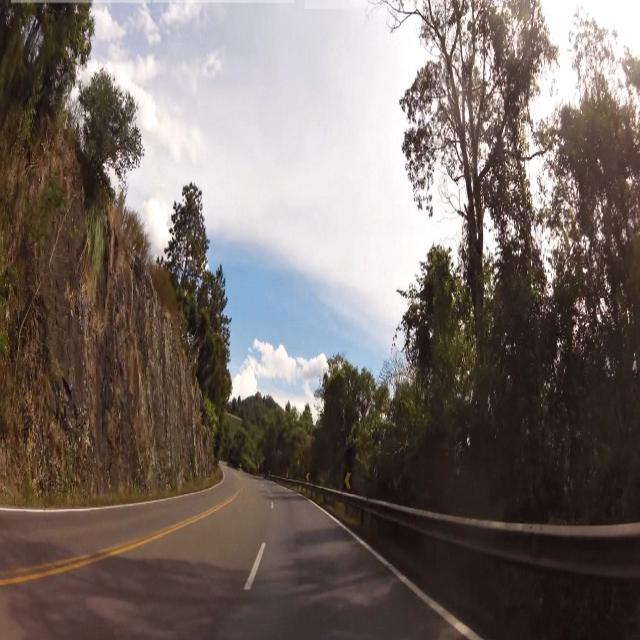Del: (344, 468, 356, 492)
